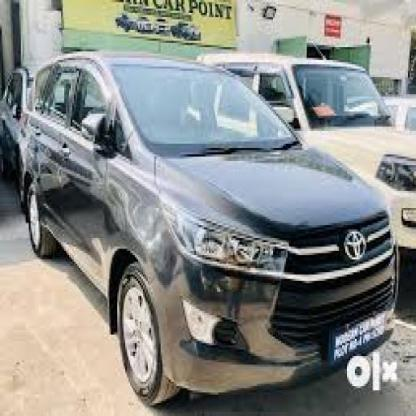car: (15, 48, 403, 402)
